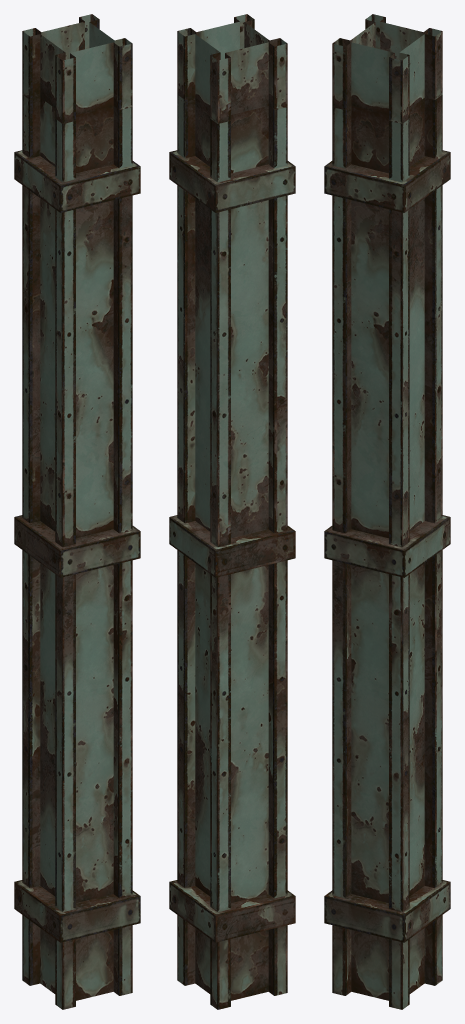
The model's file is SM_Pillar_01_B.fbx.
The picture shows the model from 3 angles, left to right: view 1: azimuth 30°, elevation 25°; view 2: azimuth 210°, elevation 25°; view 3: azimuth 330°, elevation 25°; orthographic projection.
Parts seen in each view (by area): view 1: SM_Pillar_01_B; view 2: SM_Pillar_01_B; view 3: SM_Pillar_01_B.
Boxes of the visible parts, x1,y1,x2,y2 form: SM_Pillar_01_B: (14,14,140,1009); SM_Pillar_01_B: (169,14,295,1009); SM_Pillar_01_B: (324,14,450,1009).
Size of the model in its own units: 31.02 by 31.02 by 351.
1 material, 1 textured.
